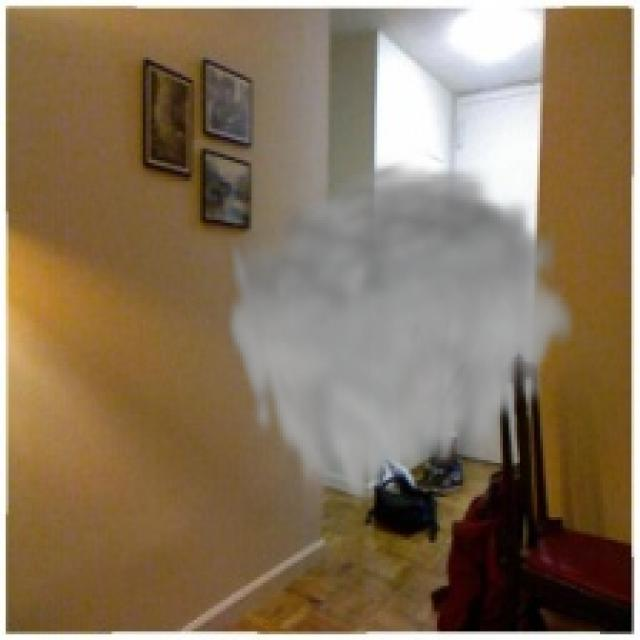smoke: (223, 154, 580, 520)
